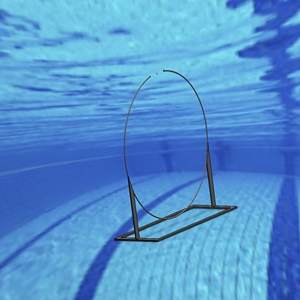circle: (113, 68, 238, 242)
